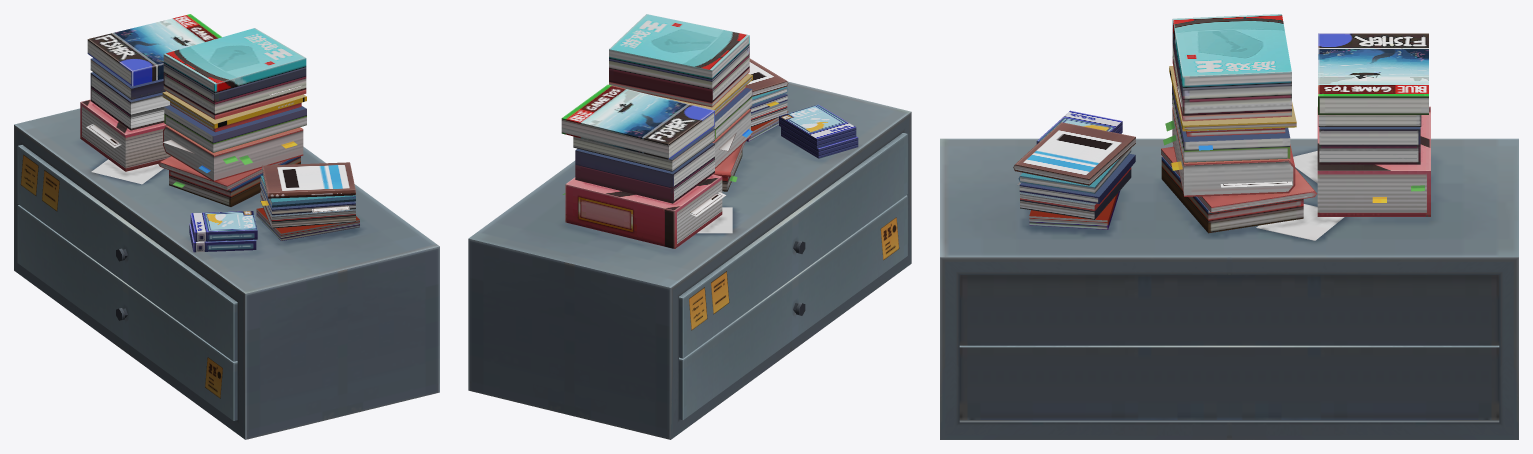
Rendered from my_gamedevdept_01_desk_03.glb.
3 renders of one model, left to right at view 1: azimuth 30°, elevation 25°; view 2: azimuth 150°, elevation 25°; view 3: azimuth 270°, elevation 25°, orthographic. The views are drawn at different scales.
Visible parts, largest first — view 1: my_gamedevdept_01_desk_03; view 2: my_gamedevdept_01_desk_03; view 3: my_gamedevdept_01_desk_03.
Boxes of the visible parts, bbox=[...] form: my_gamedevdept_01_desk_03: bbox=[14, 14, 439, 439]; my_gamedevdept_01_desk_03: bbox=[468, 14, 911, 439]; my_gamedevdept_01_desk_03: bbox=[940, 14, 1518, 439].
Size of the model in its own units: 0.00515 by 0.00654 by 0.0101.
1 material, 1 textured.
